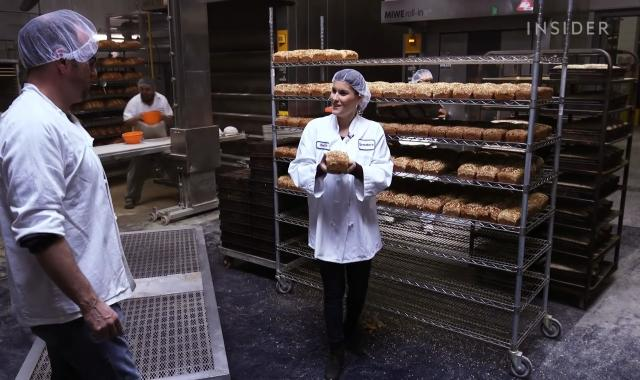hairnet: (14, 3, 98, 72), (329, 70, 368, 113), (409, 66, 434, 84), (135, 74, 160, 92)
